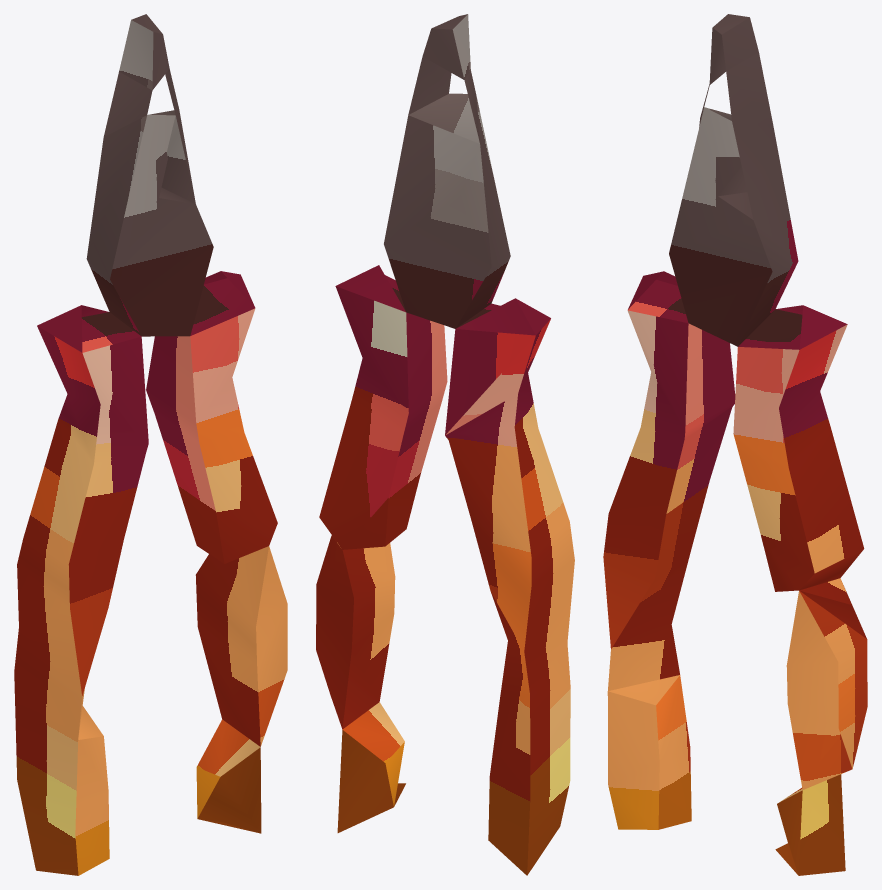
File: pliers.glb
3 views of the same model, side by side, from view 1: azimuth 30°, elevation 25°; view 2: azimuth 150°, elevation 25°; view 3: azimuth 330°, elevation 25° (orthographic). The views are drawn at different scales.
Parts seen in each view (by area): view 1: mesh; view 2: mesh; view 3: mesh.
Boxes of the visible parts, bbox=[...] form: mesh: bbox=[14, 14, 287, 875]; mesh: bbox=[316, 14, 574, 875]; mesh: bbox=[603, 14, 867, 875].
Size of the model in its own units: 0.0522 by 0.1798 by 0.0208.
1 material, 1 textured.
